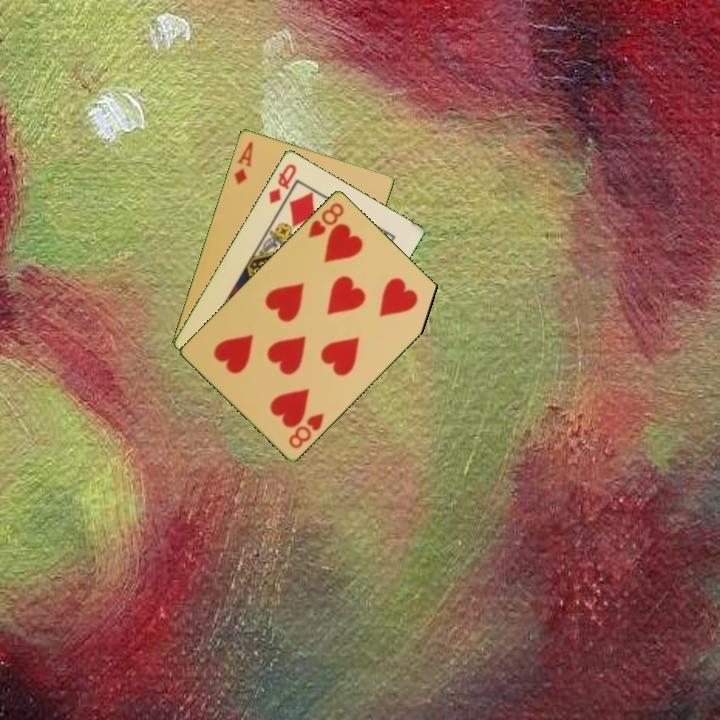8h: (285, 409, 327, 451), (304, 199, 347, 240)
Ad: (230, 138, 256, 187)
Qd: (265, 160, 300, 206)
